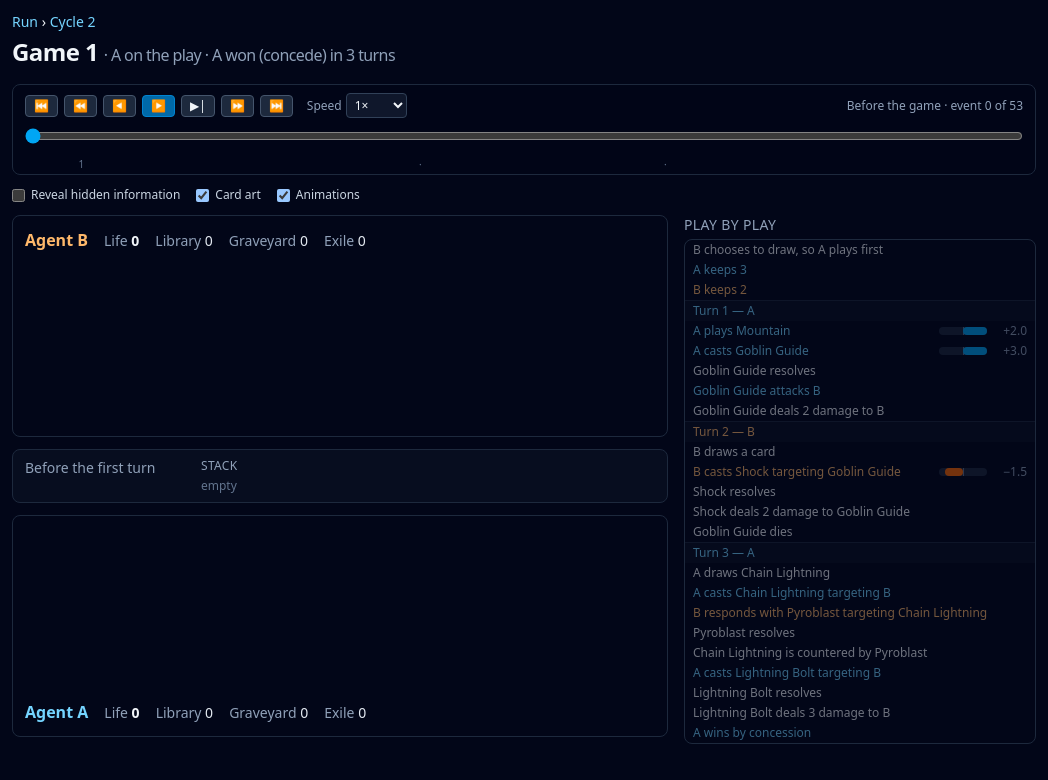
the replay of a game › tells the game in the ticker with each decision’s evaluation, and goes where a line is clicked
This screenshot has width=1048, height=780.
Check: the element named "Transport" is shown, box left=12, top=84, right=1036, bottom=175
Check: the elements with test id "score" read "+2.0", "+3.0", "−1.5", in this order, box left=939, top=323, right=1027, bottom=339; left=939, top=343, right=1027, bottom=359; left=939, top=464, right=1027, bottom=480
Click the text "B casts Shock targeting Goblin Guide" at coordinates (812, 472), box left=693, top=464, right=931, bottom=480
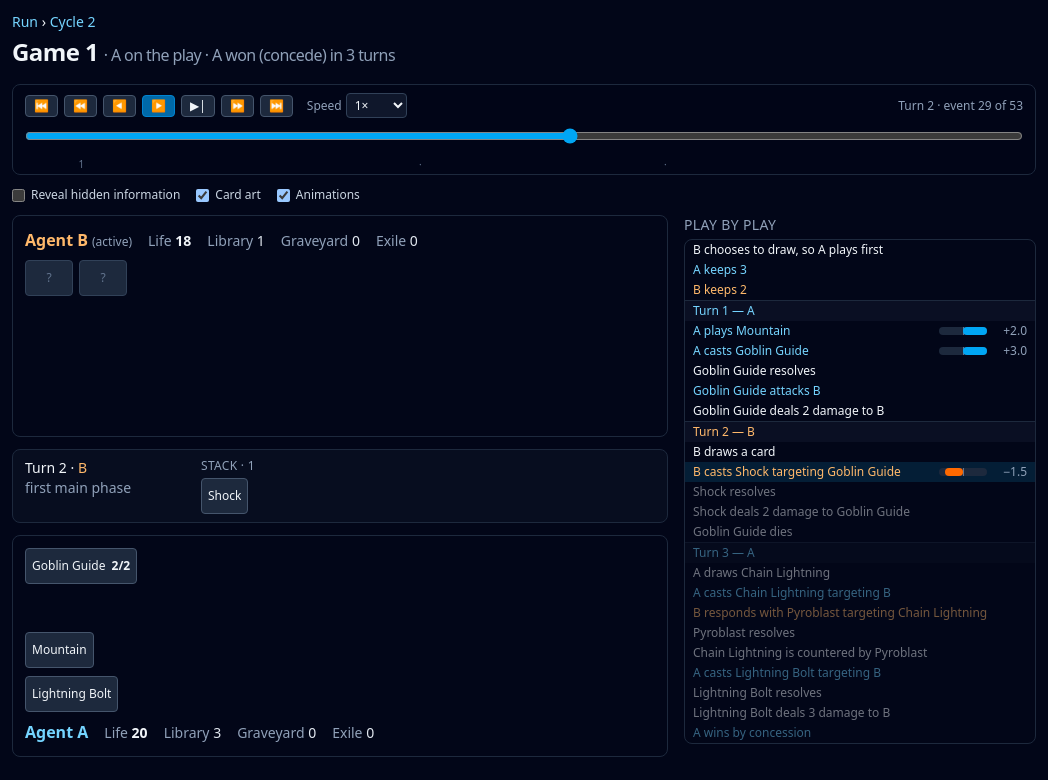
Check: the button "Shock" is shown, box left=201, top=478, right=248, bottom=514
